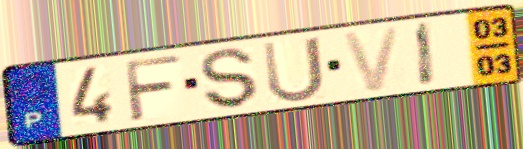4: (69, 63, 118, 127)
F: (121, 53, 185, 125)
I: (414, 20, 439, 89)
S: (197, 46, 261, 111)
U: (259, 34, 328, 106)
V: (339, 24, 404, 95)
